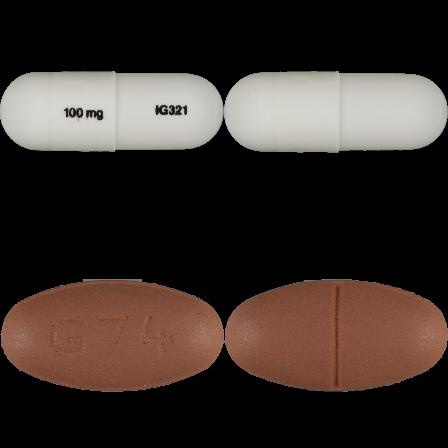50090-1556: (0, 0, 224, 224)
